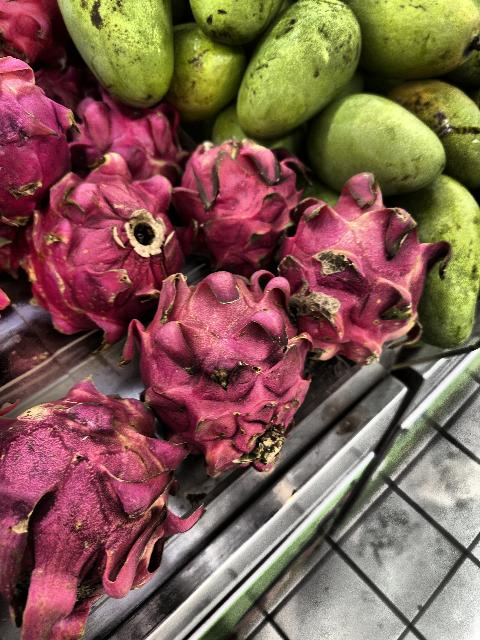buah-naga-matang: (0, 378, 206, 638), (126, 274, 326, 462), (282, 182, 444, 360), (36, 158, 178, 328), (175, 136, 307, 254), (0, 51, 80, 223), (73, 93, 188, 179)
